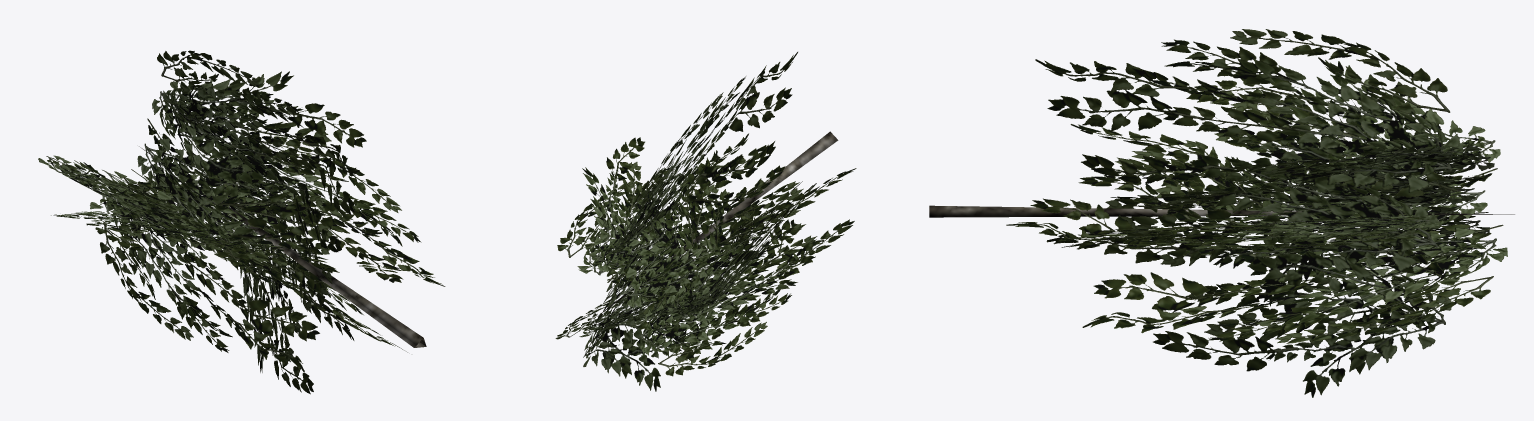
File: MEP_Birch_01_d_LOD_03.fbx
3 renders of one model, left to right at view 1: azimuth 30°, elevation 25°; view 2: azimuth 150°, elevation 25°; view 3: azimuth 270°, elevation 25°, orthographic. The views are drawn at different scales.
Visible parts, largest first — view 1: MEP_Birch_01_d_LOD_03; view 2: MEP_Birch_01_d_LOD_03; view 3: MEP_Birch_01_d_LOD_03.
Part boxes in pixels (x1,y1,x2,y2): MEP_Birch_01_d_LOD_03: (38, 50, 445, 394); MEP_Birch_01_d_LOD_03: (555, 52, 856, 391); MEP_Birch_01_d_LOD_03: (929, 29, 1514, 397).
Size of the model in its own units: 10.54 by 12.05 by 16.89.
